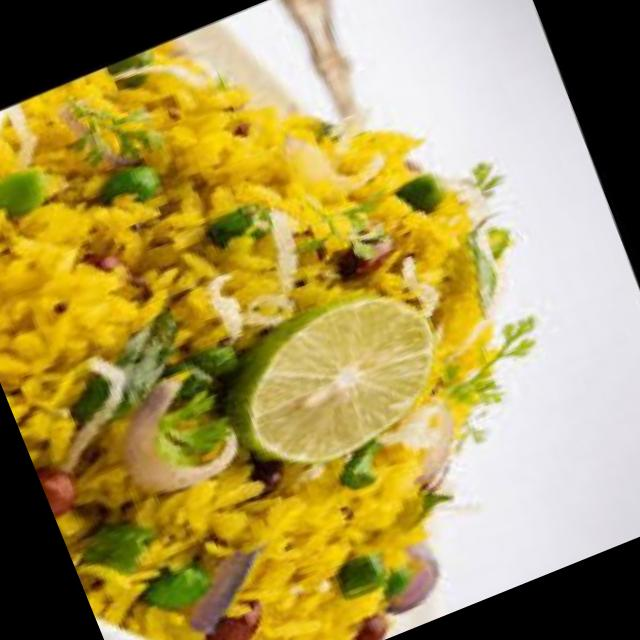poha: (0, 0, 619, 640)
